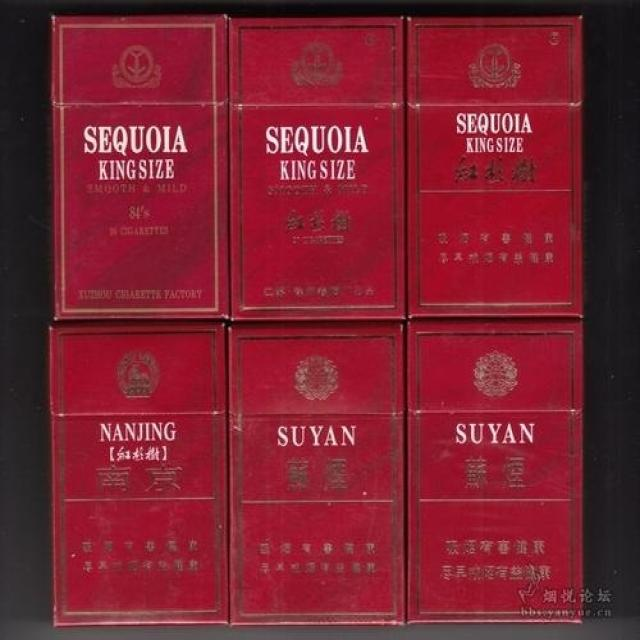box: (406, 319, 585, 626), (228, 319, 407, 626), (407, 10, 586, 317), (49, 321, 228, 627), (49, 13, 228, 319), (229, 13, 408, 319)
